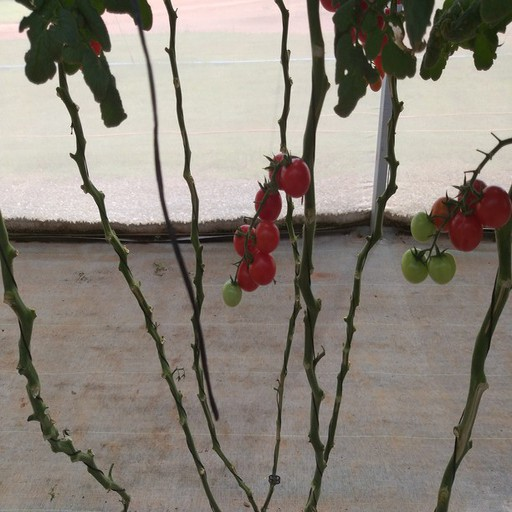red tomato bunch: (225, 154, 311, 292), (320, 1, 391, 87), (427, 180, 512, 251)
